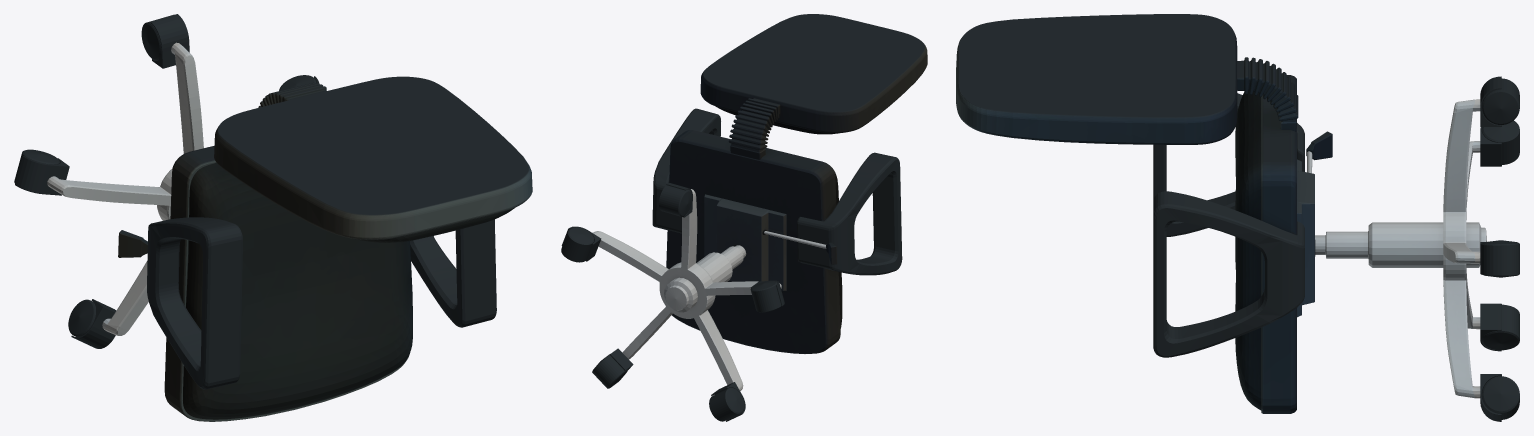
Rendered from chair.obj.
3 renders of one model, left to right at view 1: azimuth 30°, elevation 25°; view 2: azimuth 150°, elevation 25°; view 3: azimuth 270°, elevation 25°, orthographic. The views are drawn at different scales.
Visible parts, largest first — view 1: Object.1; view 2: Object.1; view 3: Object.1.
Boxes of the visible parts, left/top/right/bottom form: Object.1: left=14, top=14, right=532, bottom=421; Object.1: left=561, top=14, right=927, bottom=421; Object.1: left=956, top=14, right=1519, bottom=421.
Size of the model in its own units: 166 by 171 by 270.
1 material, 1 textured.
